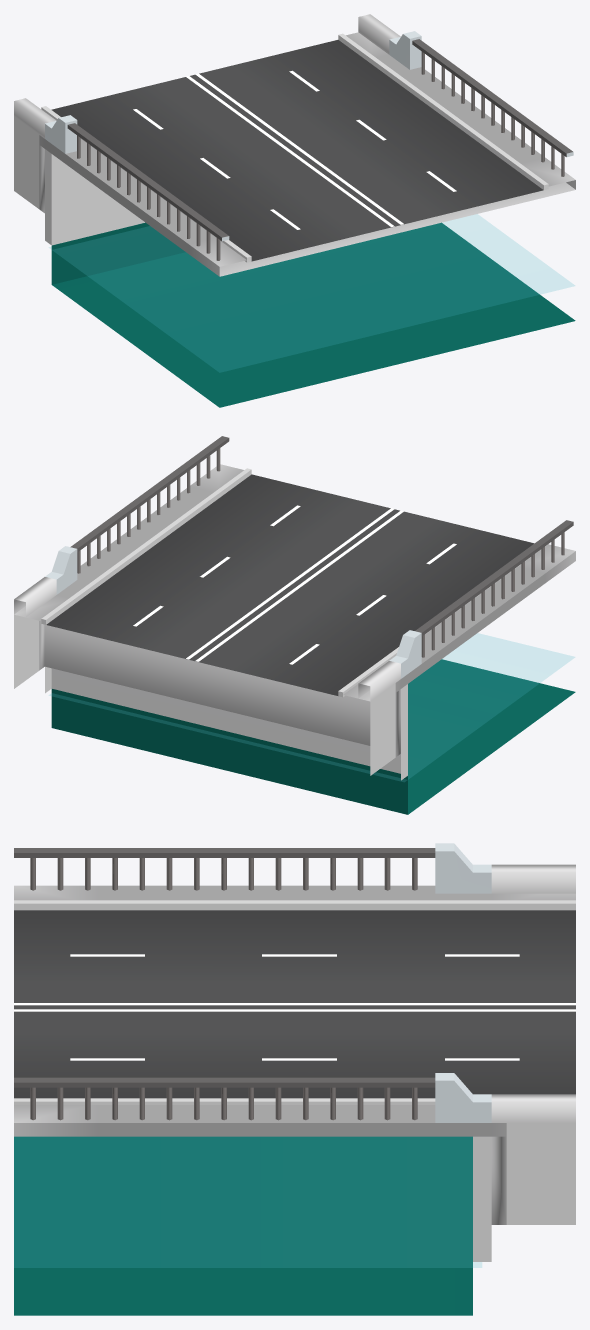
File: road_034.glb
3 views of the same model, one above another, from view 1: azimuth 30°, elevation 25°; view 2: azimuth 150°, elevation 25°; view 3: azimuth 270°, elevation 25° (orthographic). The views are drawn at different scales.
Parts seen in each view (by area): view 1: road_034; view 2: road_034; view 3: road_034.
Part boxes in pixels (left/top/right/bottom): road_034: left=14, top=14, right=575, bottom=407; road_034: left=14, top=436, right=575, bottom=814; road_034: left=14, top=843, right=575, bottom=1315.
Size of the model in its own units: 15 by 6.92 by 15.
Materials: 2 (2 with a texture image).
